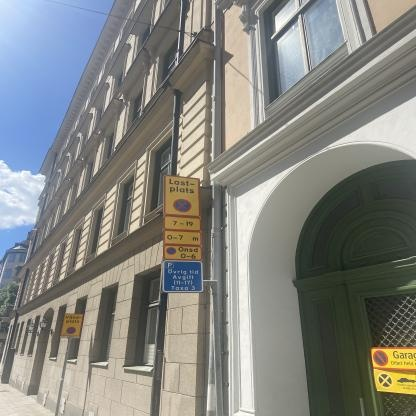lastplats: (163, 174, 199, 217)
